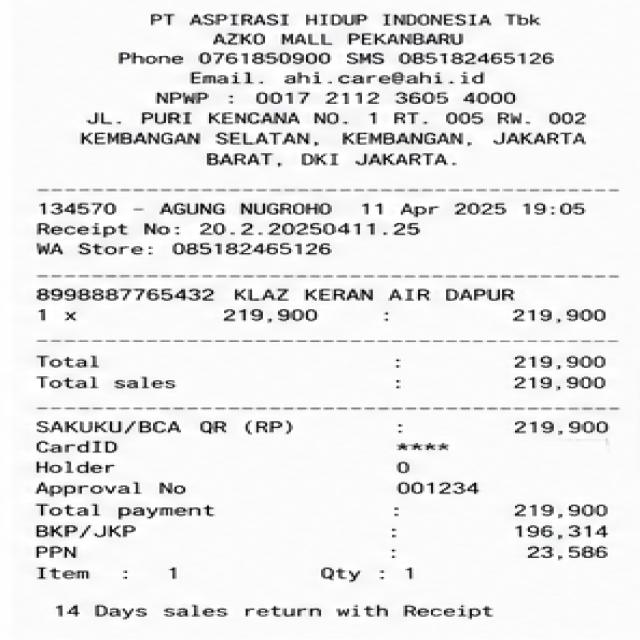date: (358, 199, 598, 217)
store: (135, 6, 551, 48)
total: (29, 500, 633, 520)
